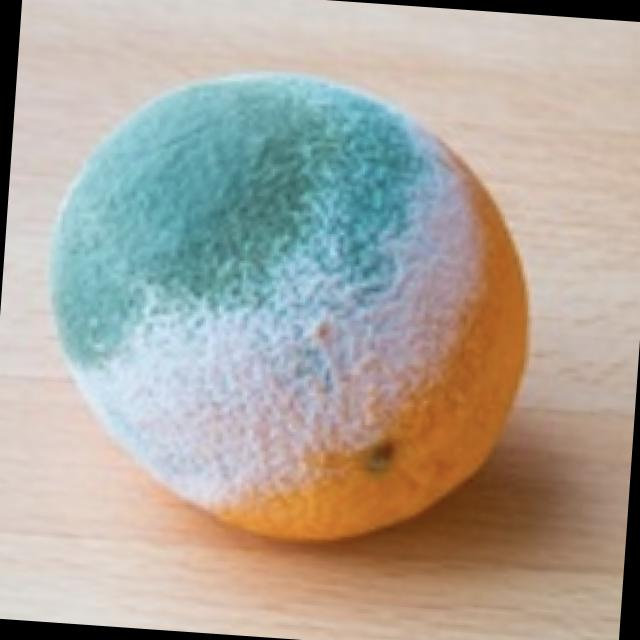rotten-orange: (32, 60, 548, 558)
